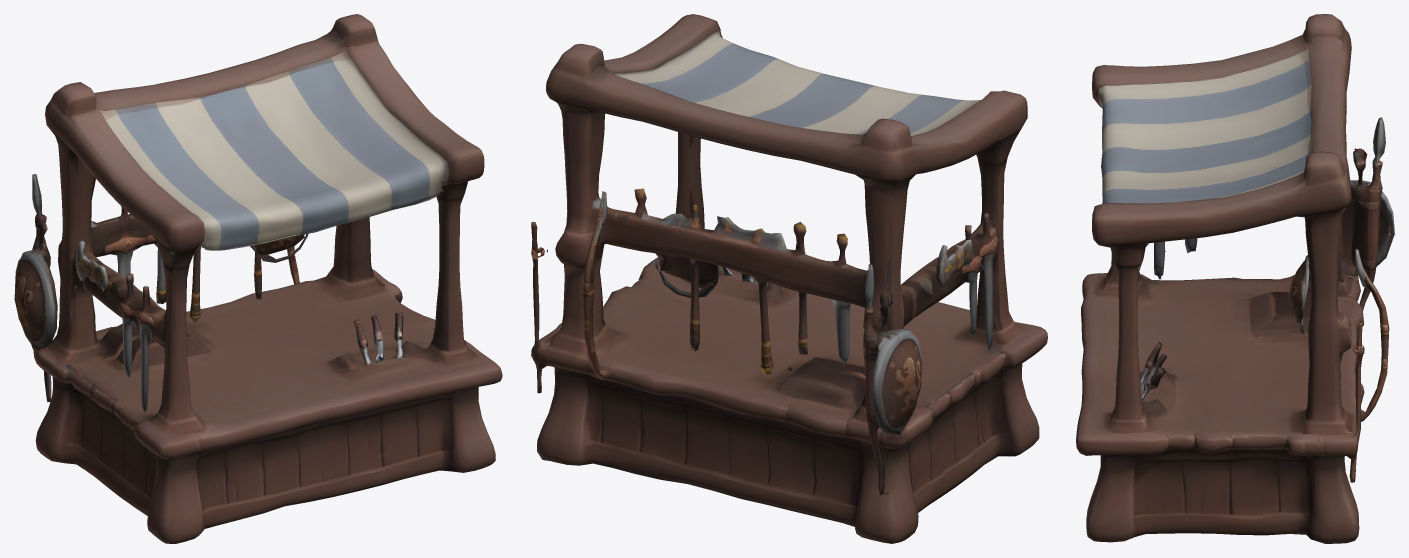
Rendered from weapon-rack.glb.
The picture shows the model from 3 angles, left to right: view 1: azimuth 30°, elevation 25°; view 2: azimuth 150°, elevation 25°; view 3: azimuth 270°, elevation 25°; orthographic projection. The views are drawn at different scales.
Visible parts, largest first — view 1: weapon-rack; view 2: weapon-rack; view 3: weapon-rack.
Boxes of the visible parts, box(x1,y1,x2,y2) form: weapon-rack: box(14, 14, 502, 543); weapon-rack: box(531, 14, 1047, 543); weapon-rack: box(1076, 14, 1394, 543).
Bounding box in the file's own units: 0.979 × 0.9836 × 0.7569.
1 material, 1 textured.
